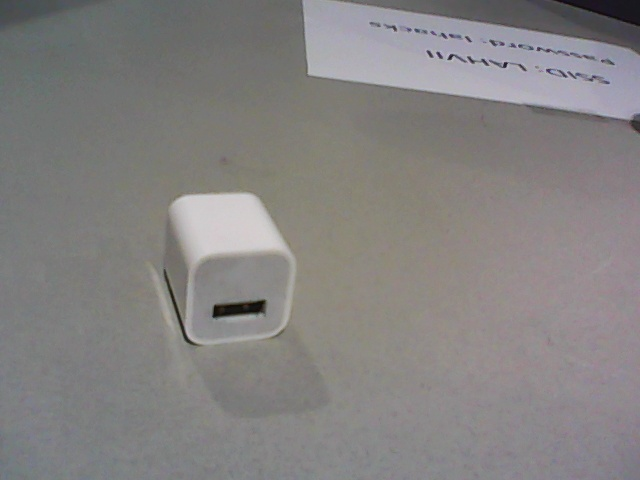charger: (163, 192, 297, 347)
